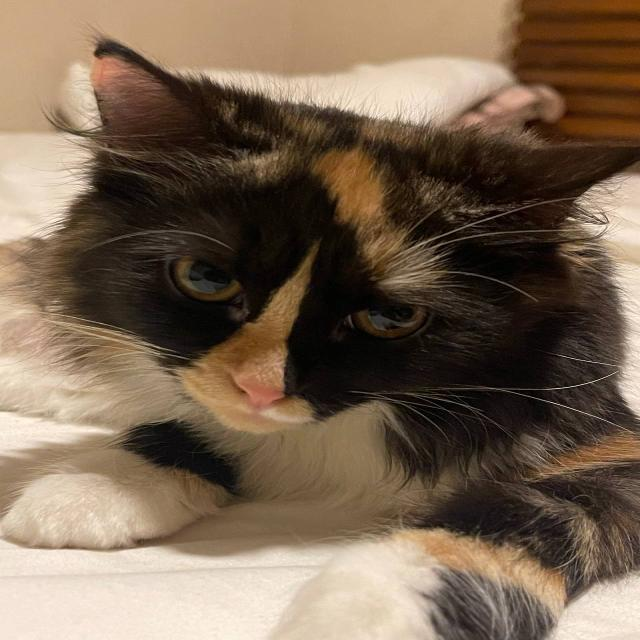da khoe manh: (133, 85, 572, 306)
